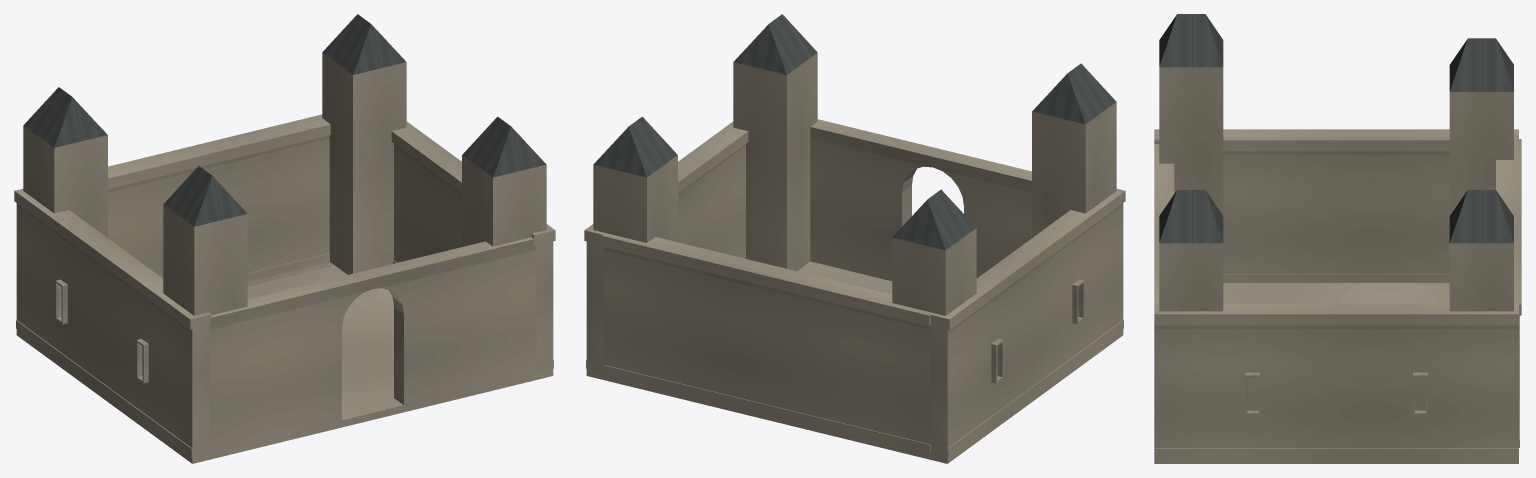
The model's file is bratislava.glb.
3 views of the same model, side by side, from view 1: azimuth 30°, elevation 25°; view 2: azimuth 150°, elevation 25°; view 3: azimuth 270°, elevation 25° (orthographic). The views are drawn at different scales.
Visible parts, largest first — view 1: bratislava; view 2: bratislava; view 3: bratislava.
Part boxes in pixels (box(x1,y1,x2,y2)): bratislava: box(14, 14, 555, 463); bratislava: box(584, 14, 1125, 463); bratislava: box(1154, 14, 1521, 463).
Size of the model in its own units: 6.58 by 4.62 by 5.44.
Materials: 1 (1 with a texture image).
